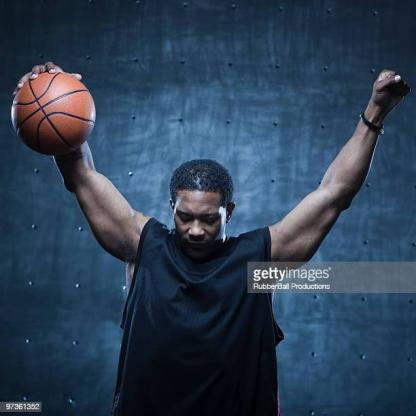fist: (368, 64, 416, 111)
